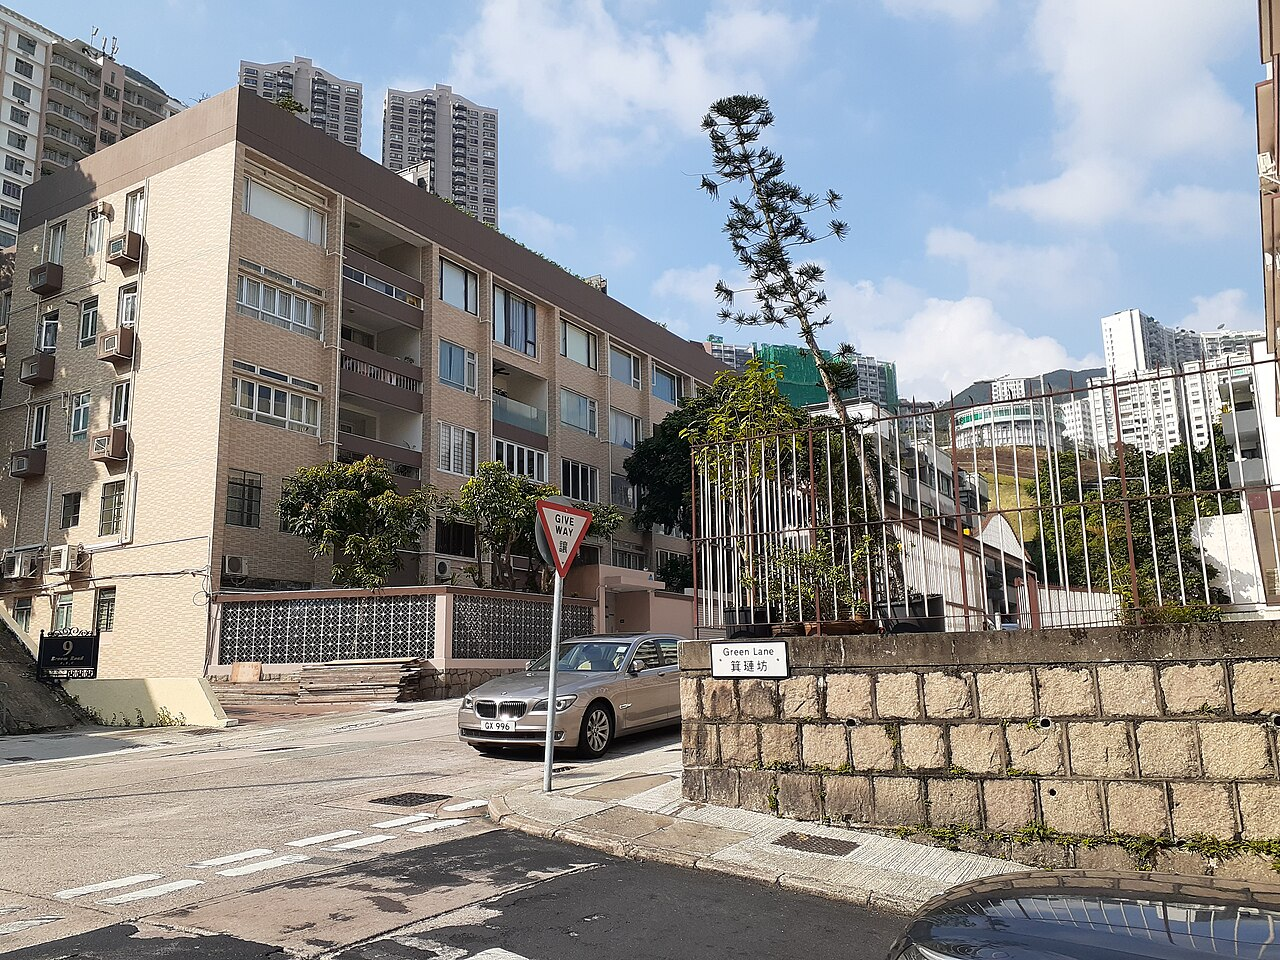Give Way: (527, 495, 596, 583)
